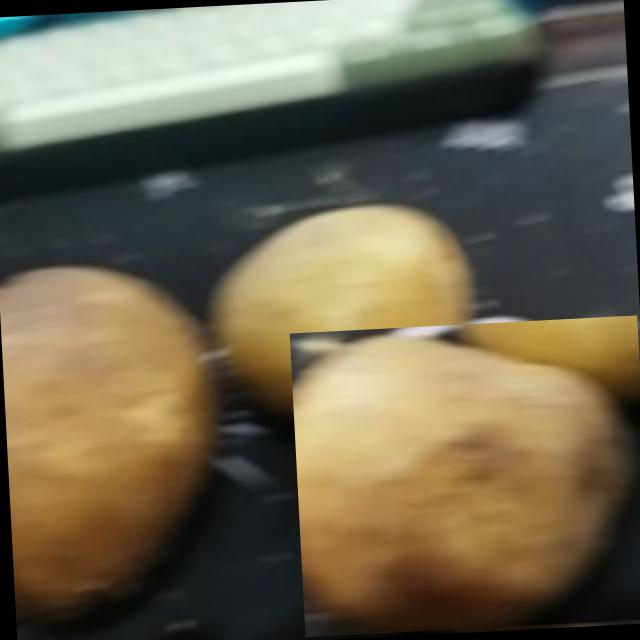Damaged potato: (289, 314, 640, 636), (0, 255, 231, 640)
Potato: (204, 196, 489, 422)
